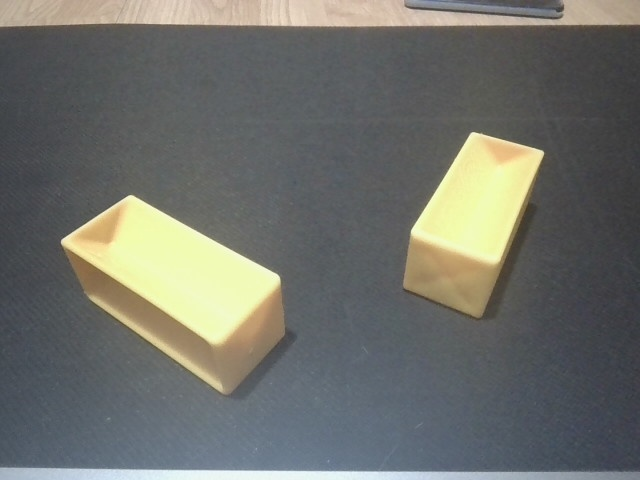YellowSample: (57, 190, 291, 402), (399, 130, 548, 320)
